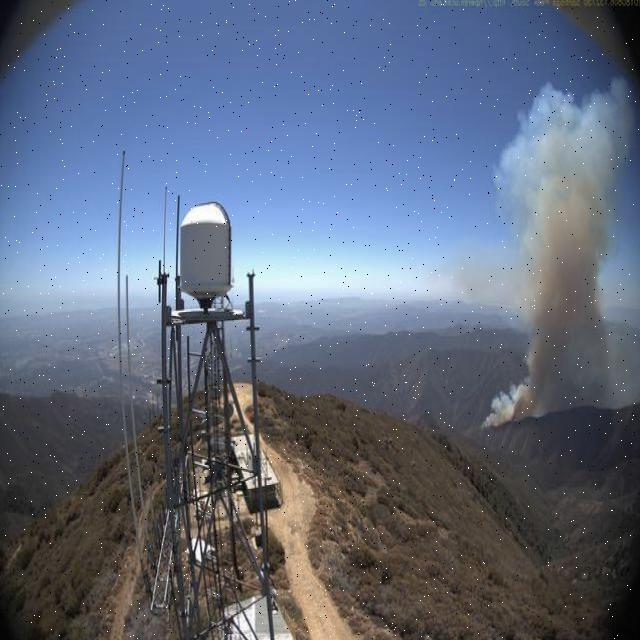smoke: (479, 72, 640, 430)
